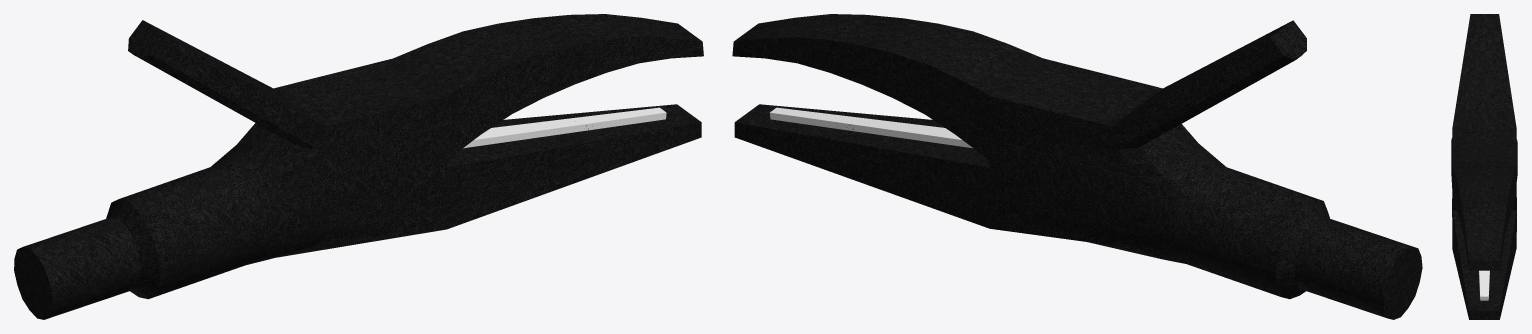
Rendered from BlackClip.fbx.
The picture shows the model from 3 angles, left to right: view 1: azimuth 30°, elevation 25°; view 2: azimuth 150°, elevation 25°; view 3: azimuth 270°, elevation 25°; orthographic projection. The views are drawn at different scales.
Visible parts, largest first — view 1: black; view 2: black; view 3: black.
Boxes of the visible parts, x1=… form: black: x1=14, y1=14, x2=703, y2=319; black: x1=732, y1=14, x2=1422, y2=319; black: x1=1451, y1=14, x2=1517, y2=319.
Size of the model in its own units: 1023 by 390 by 143.
2 materials, 2 textured.
